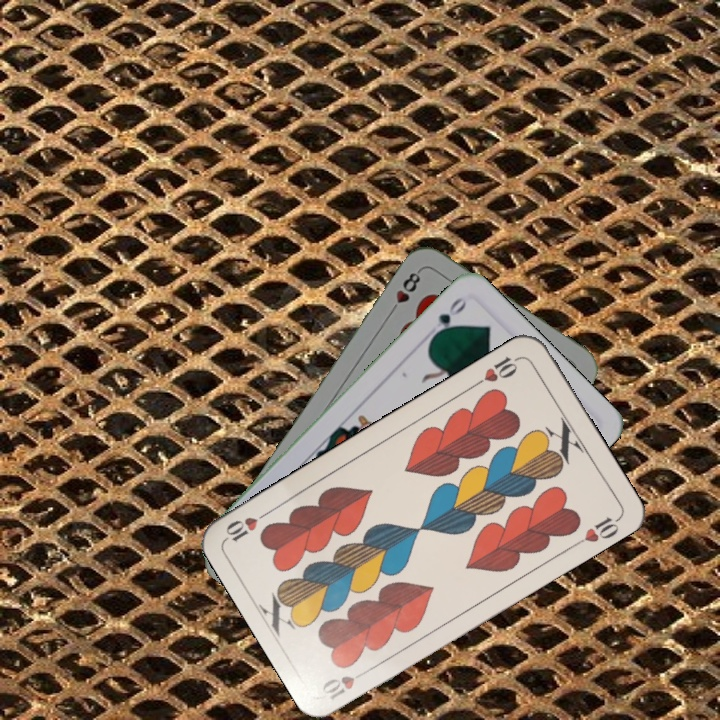GO: (424, 293, 469, 343)
H10: (318, 664, 374, 703), (470, 352, 524, 389)
H8: (385, 265, 424, 318)
